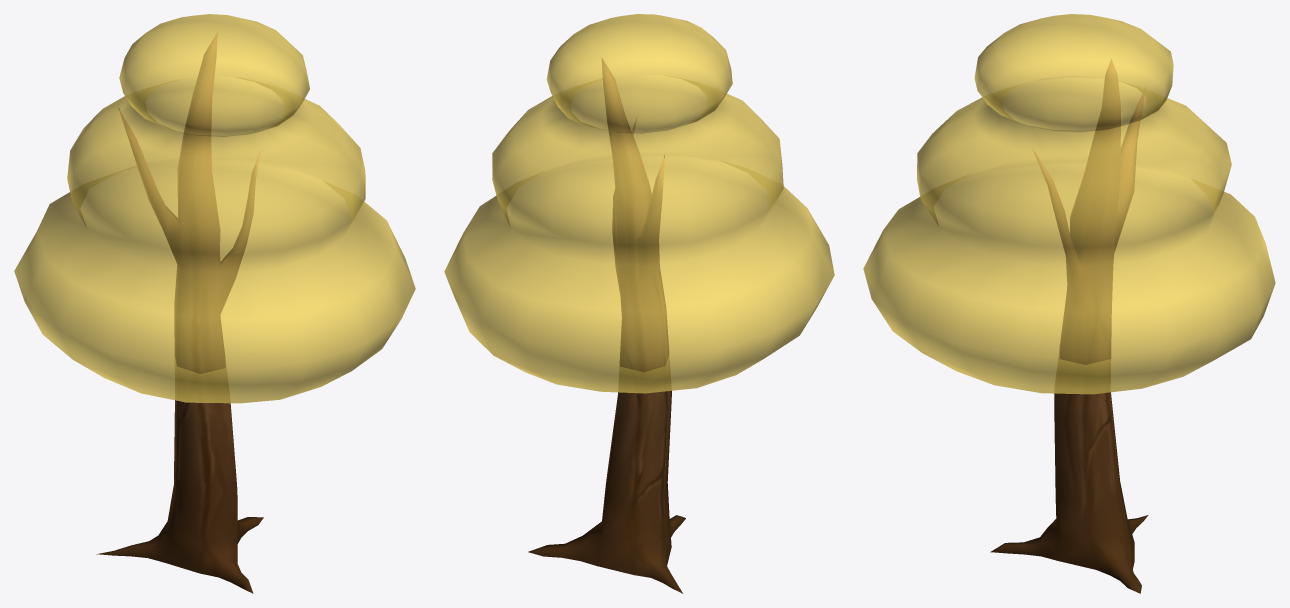
Rendered from tree2.fbx.
3 renders of one model, left to right at view 1: azimuth 30°, elevation 25°; view 2: azimuth 150°, elevation 25°; view 3: azimuth 270°, elevation 25°, orthographic. The views are drawn at different scales.
Parts seen in each view (by area): view 1: Cylinder005, Cylinder001; view 2: Cylinder005, Cylinder001; view 3: Cylinder005, Cylinder001.
Part boxes in pixels (box(x1,y1,x2,y2)): Cylinder005: box(14, 14, 415, 403); Cylinder001: box(96, 32, 263, 593); Cylinder005: box(444, 14, 834, 393); Cylinder001: box(528, 58, 685, 593); Cylinder005: box(863, 14, 1275, 394); Cylinder001: box(990, 59, 1148, 593).
Size of the model in its own units: 40.51 by 60.78 by 43.25.
